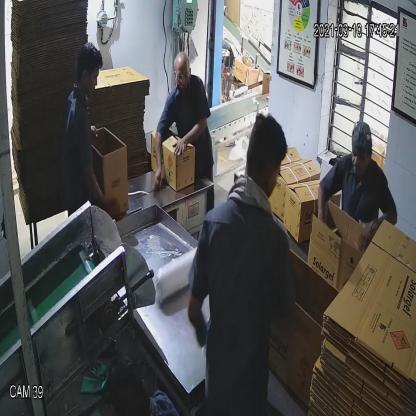no_glove: (78, 148, 122, 226), (354, 205, 401, 250), (172, 116, 210, 162), (149, 126, 169, 198), (313, 173, 331, 252)
